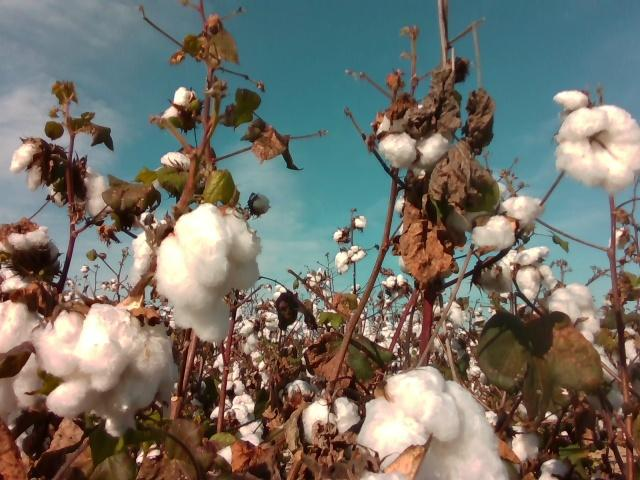cotton_ready: (358, 365, 509, 480), (42, 304, 176, 418), (156, 203, 262, 344), (558, 104, 640, 193), (0, 299, 44, 422), (375, 108, 450, 170), (548, 284, 599, 343), (303, 398, 360, 445), (510, 245, 556, 303), (513, 404, 558, 462), (8, 138, 52, 193), (472, 246, 520, 294), (132, 218, 166, 283), (0, 219, 53, 256), (83, 166, 115, 220), (502, 196, 548, 232), (161, 85, 199, 128), (472, 215, 515, 248), (0, 258, 36, 295), (34, 240, 62, 277), (538, 457, 573, 480), (554, 90, 590, 112), (160, 151, 193, 168)
